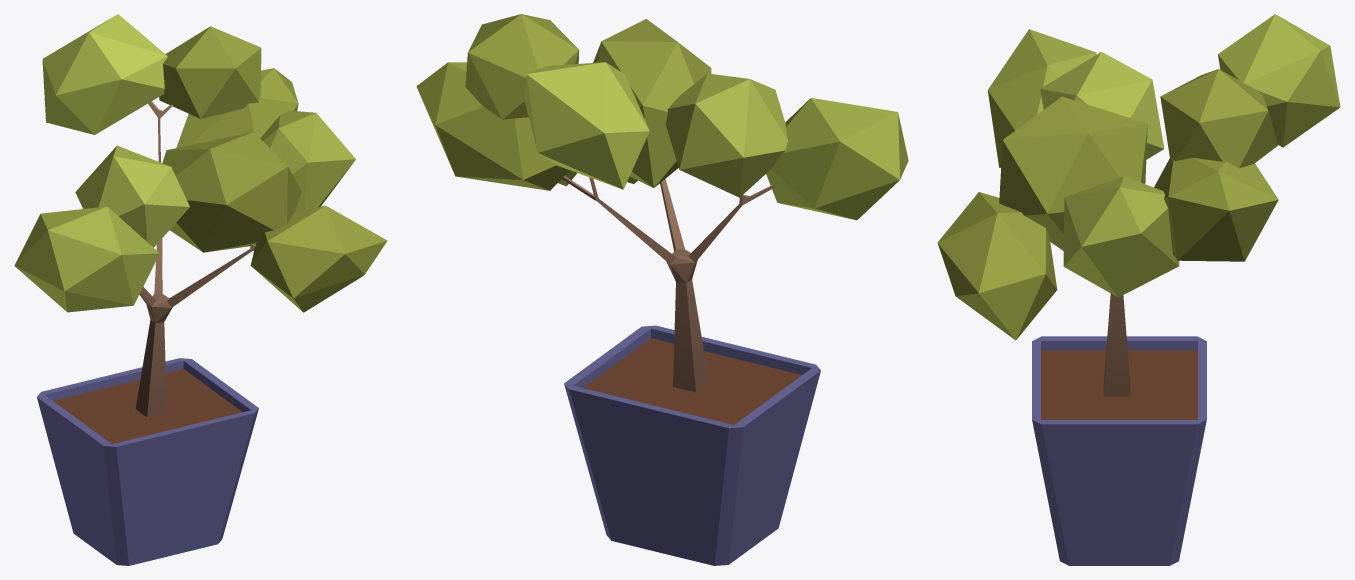
The model's file is SM_Nature_Flowerbed_02.fbx.
3 renders of one model, left to right at view 1: azimuth 30°, elevation 25°; view 2: azimuth 150°, elevation 25°; view 3: azimuth 270°, elevation 25°, orthographic. The views are drawn at different scales.
Parts seen in each view (by area): view 1: SM_Nature_Flowerbed_02; view 2: SM_Nature_Flowerbed_02; view 3: SM_Nature_Flowerbed_02.
Part boxes in pixels (<box>): SM_Nature_Flowerbed_02: <box>14,14,387,565</box>; SM_Nature_Flowerbed_02: <box>416,14,908,565</box>; SM_Nature_Flowerbed_02: <box>937,14,1340,565</box>.
Size of the model in its own units: 99.01 by 123 by 85.34.
